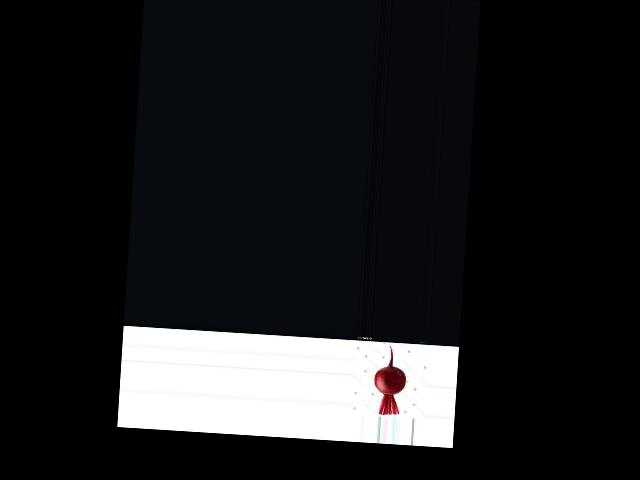beet: (372, 343, 408, 416)
